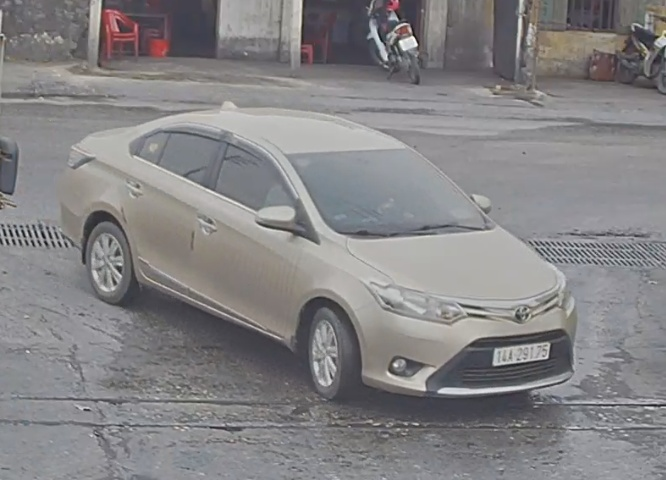vehicle plate: (490, 336, 558, 369)
